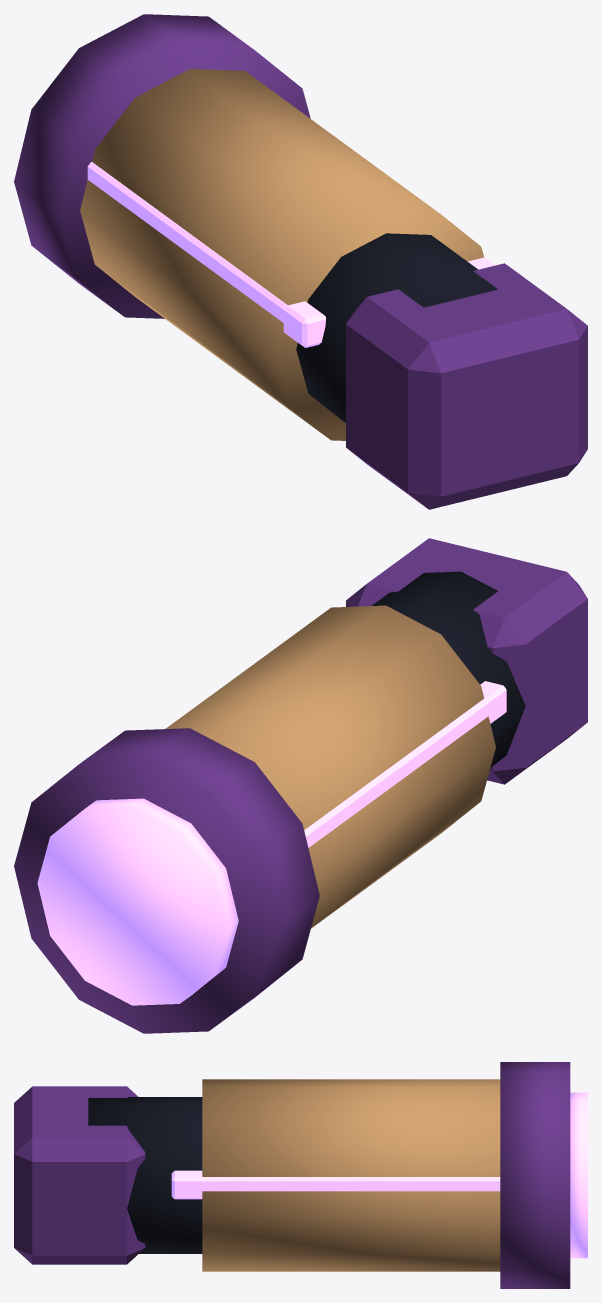
The model's file is tool_cannon.glb.
3 renders of one model, top to bottom at view 1: azimuth 30°, elevation 25°; view 2: azimuth 150°, elevation 25°; view 3: azimuth 270°, elevation 25°, orthographic. The views are drawn at different scales.
Visible parts, largest first — view 1: cannon_attachment; view 2: cannon_attachment; view 3: cannon_attachment.
Boxes of the visible parts, x1,y1,x2,y2 form: cannon_attachment: [14, 14, 587, 509]; cannon_attachment: [14, 538, 587, 1033]; cannon_attachment: [14, 1062, 587, 1288].
Size of the model in its own units: 0.26 by 0.26 by 0.655.
